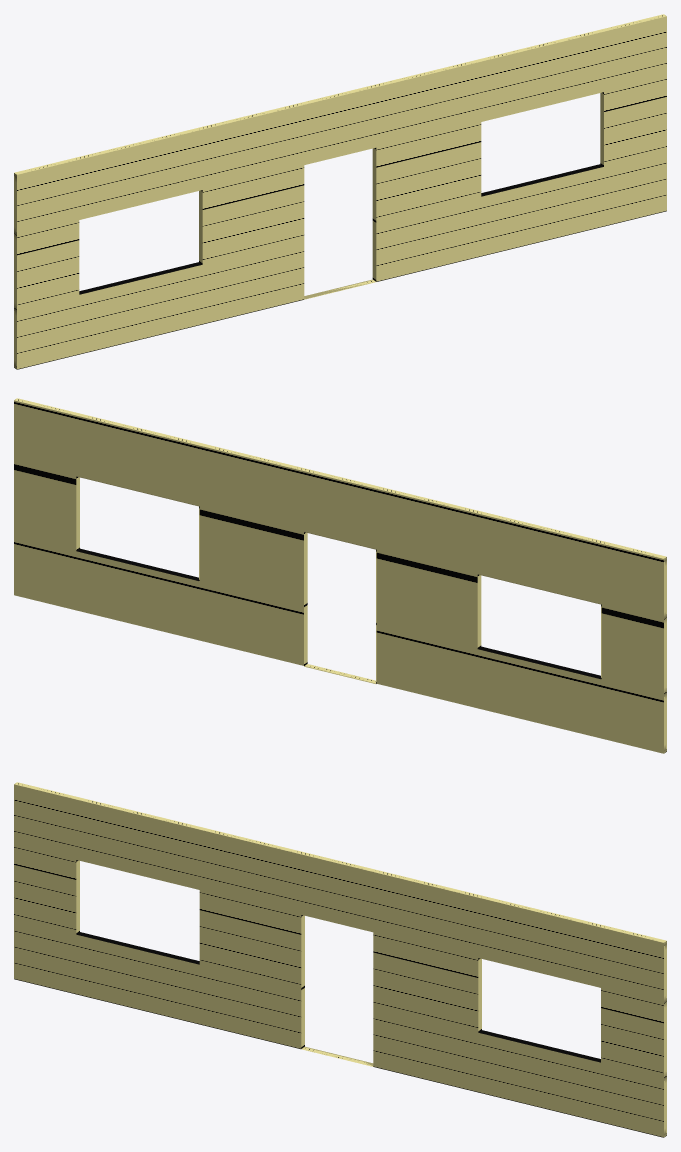
The model's file is paredfrentelineas.obj.
The picture shows the model from 3 angles, top to bottom: view 1: azimuth 30°, elevation 25°; view 2: azimuth 150°, elevation 25°; view 3: azimuth 330°, elevation 25°; orthographic projection.
Parts seen in each view (by area): view 1: pCube28; view 2: pCube28; view 3: pCube28.
Boxes of the visible parts, x1,y1,x2,y2 form: pCube28: (14, 14, 666, 369); pCube28: (14, 398, 666, 753); pCube28: (14, 782, 666, 1137).
Size of the model in its own units: 9.96 by 2.85 by 0.0972.
1 material, 1 textured.
